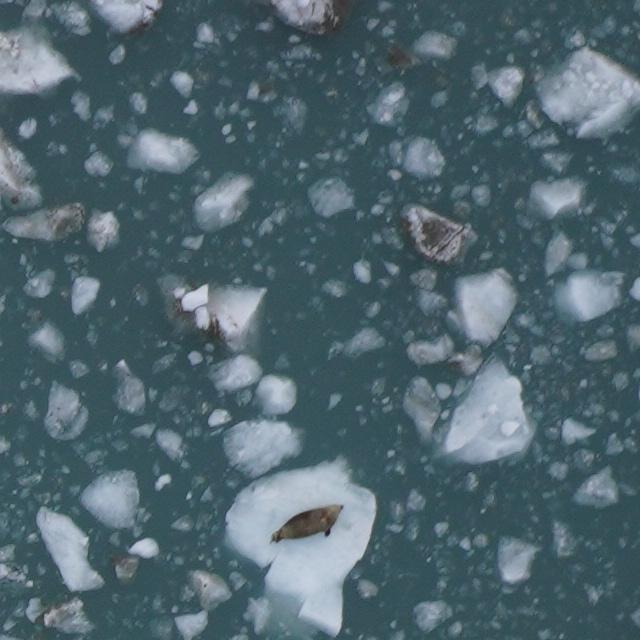seal: (266, 499, 349, 547)
